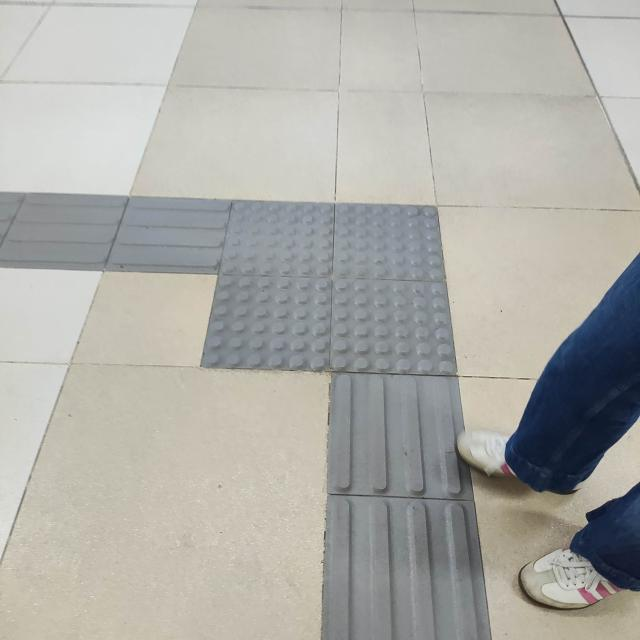kiri: (2, 135, 505, 436)
